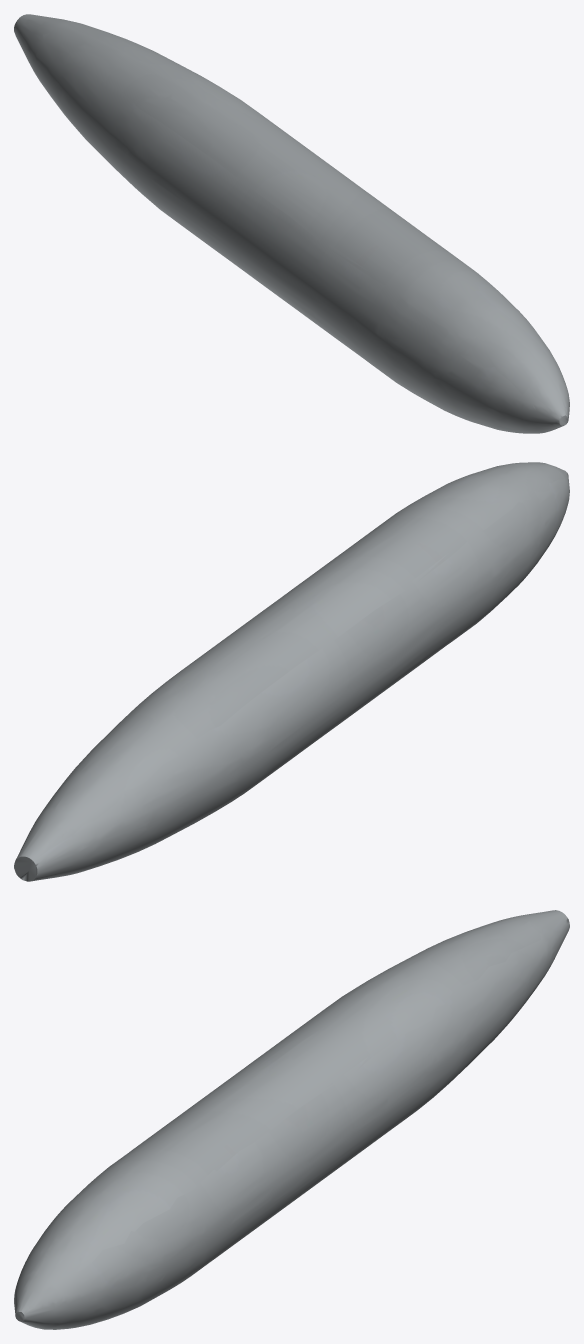
File: rpl541.glb
3 renders of one model, top to bottom at view 1: azimuth 30°, elevation 25°; view 2: azimuth 150°, elevation 25°; view 3: azimuth 330°, elevation 25°, orthographic.
Parts seen in each view (by area): view 1: airframe; view 2: airframe; view 3: airframe.
Part boxes in pixels (bbox=[...]): airframe: bbox=[14, 14, 569, 433]; airframe: bbox=[14, 462, 569, 881]; airframe: bbox=[14, 910, 569, 1329].
Size of the model in its own units: 0.8007 by 0.8005 by 6.3.
1 material, 1 textured.
